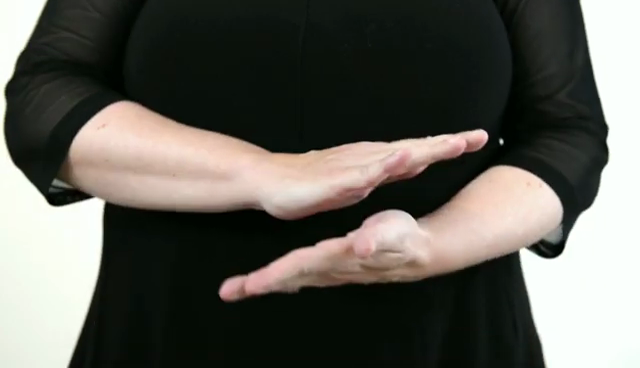H: (203, 114, 564, 310)
